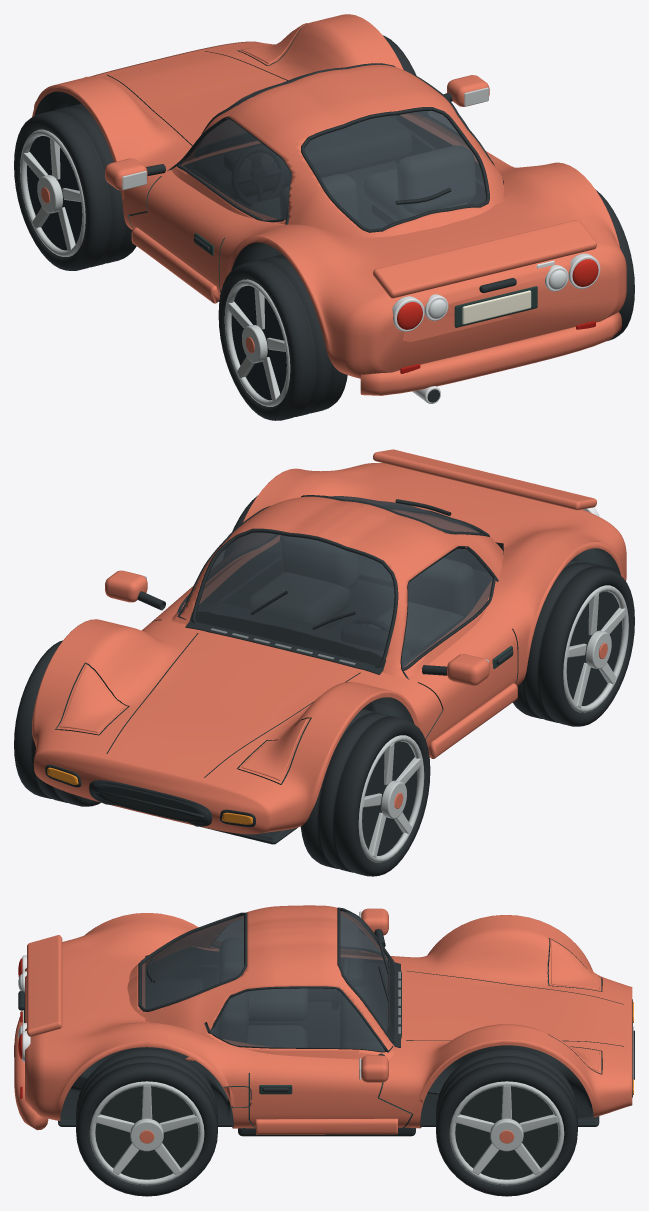
Rendered from raijin.fbx.
The picture shows the model from 3 angles, top to bottom: view 1: azimuth 30°, elevation 25°; view 2: azimuth 150°, elevation 25°; view 3: azimuth 270°, elevation 25°; orthographic projection. The views are drawn at different scales.
Visible parts, largest first — view 1: Body, Wheel_RL_Mesh, Wheel_FL_Mesh, Wheel_RR_Mesh; view 2: Body, Wheel_FL_Mesh, Wheel_RL_Mesh, Wheel_FR_Mesh; view 3: Body, Wheel_FR_Mesh, Wheel_RR_Mesh.
Part boxes in pixels (x1=…): Body: x1=32, y1=14, x2=626, y2=403; Wheel_RL_Mesh: x1=218, y1=254, x2=347, y2=420; Wheel_FL_Mesh: x1=14, y1=103, x2=136, y2=270; Wheel_RR_Mesh: x1=595, y1=189, x2=634, y2=340; Body: x1=32, y1=449, x2=626, y2=844; Wheel_FL_Mesh: x1=300, y1=709, x2=430, y2=876; Wheel_RL_Mesh: x1=512, y1=560, x2=634, y2=726; Wheel_FR_Mesh: x1=14, y1=640, x2=100, y2=806; Body: x1=14, y1=905, x2=634, y2=1136; Wheel_FR_Mesh: x1=436, y1=1048, x2=577, y2=1196; Wheel_RR_Mesh: x1=76, y1=1048, x2=217, y2=1196.
Bounding box in the file's own units: 230 × 132 × 376.
